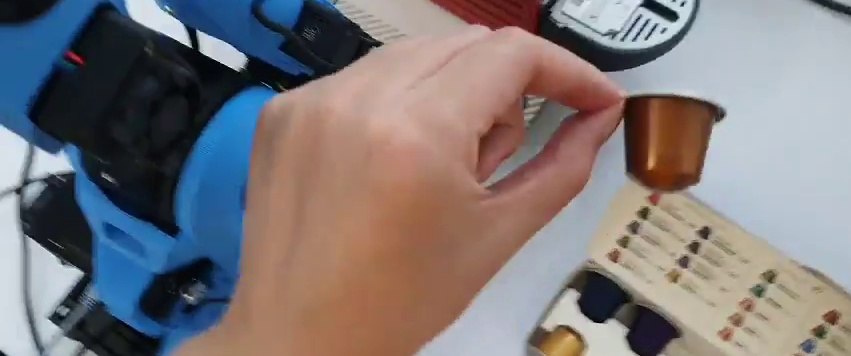capsule_3: (610, 90, 727, 190)
